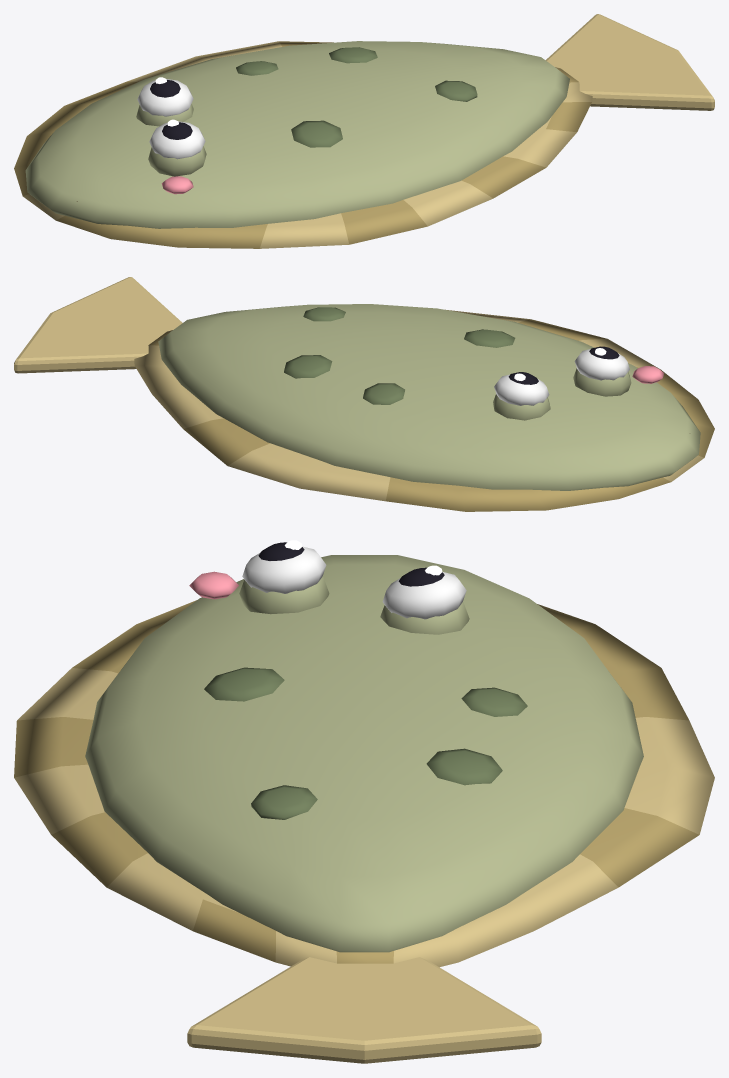
File: peixe-linguado.glb
3 views of the same model, one above another, from view 1: azimuth 30°, elevation 25°; view 2: azimuth 150°, elevation 25°; view 3: azimuth 270°, elevation 25° (orthographic). The views are drawn at different scales.
Parts seen in each view (by area): view 1: peixe-linguado; view 2: peixe-linguado; view 3: peixe-linguado.
Boxes of the visible parts, bbox=[...] form: peixe-linguado: bbox=[14, 14, 714, 248]; peixe-linguado: bbox=[14, 277, 714, 511]; peixe-linguado: bbox=[14, 540, 714, 1063].
Bounding box in the file's own units: 0.2231 × 0.0373 × 0.14.
